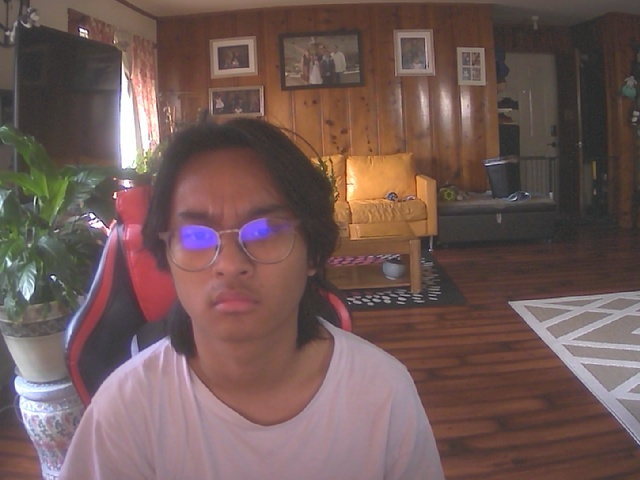anger: (157, 132, 325, 345)
